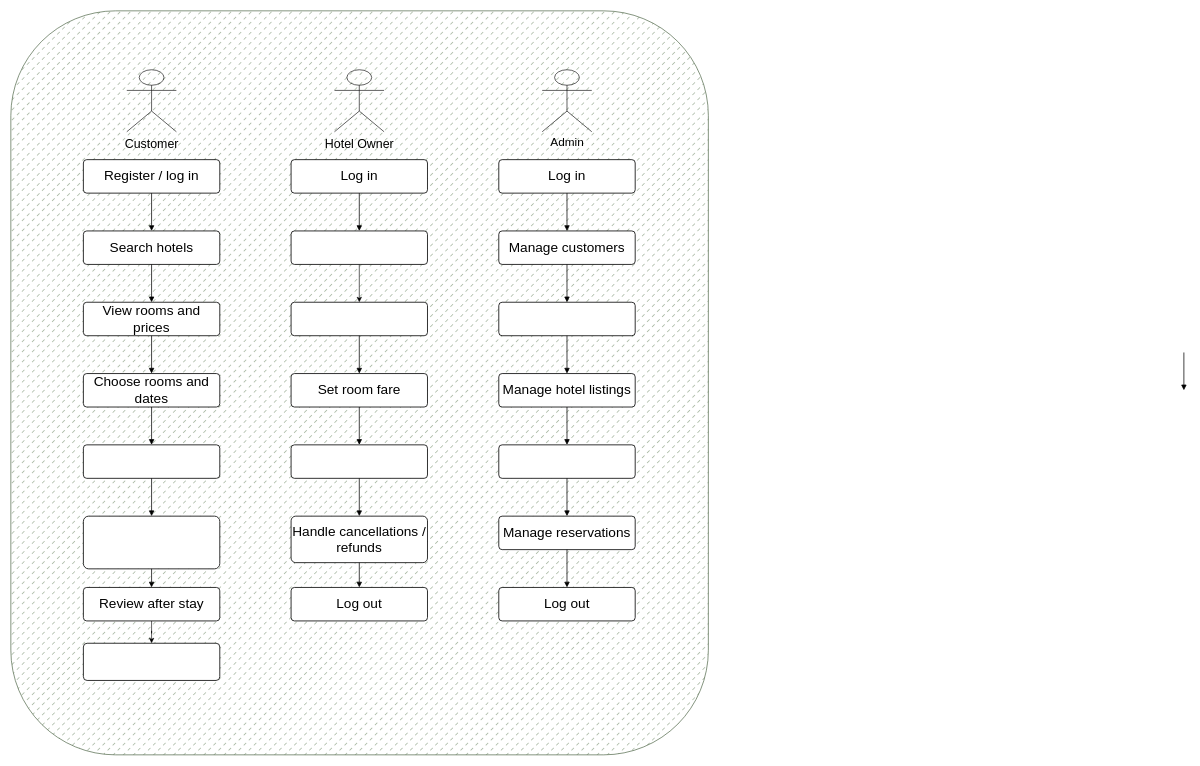
The diagram is 1200 pixels wide and 766 high, and some of its shapes have lost their labels. Here are the shapes that lost their labels. From the top down, the box of each, then its label:
(290, 230, 428, 265): Add / edit hotel
(290, 302, 428, 336): Add / edit rooms
(498, 302, 635, 336): Manage owners
(83, 444, 220, 478): Book and pay
(290, 444, 428, 478): View bookings
(498, 444, 635, 478): View all bookings
(83, 515, 220, 569): View Booking / cancel Booking / request refunds
(83, 643, 220, 681): Logout
